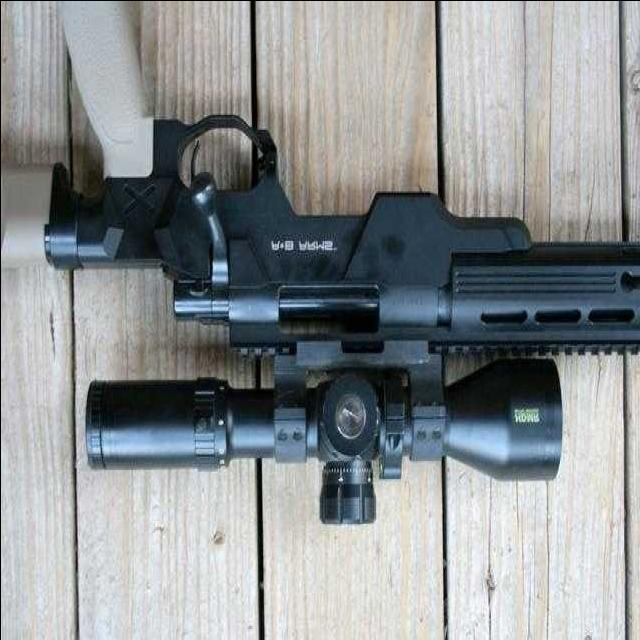heavyweapon: (1, 63, 639, 478)
